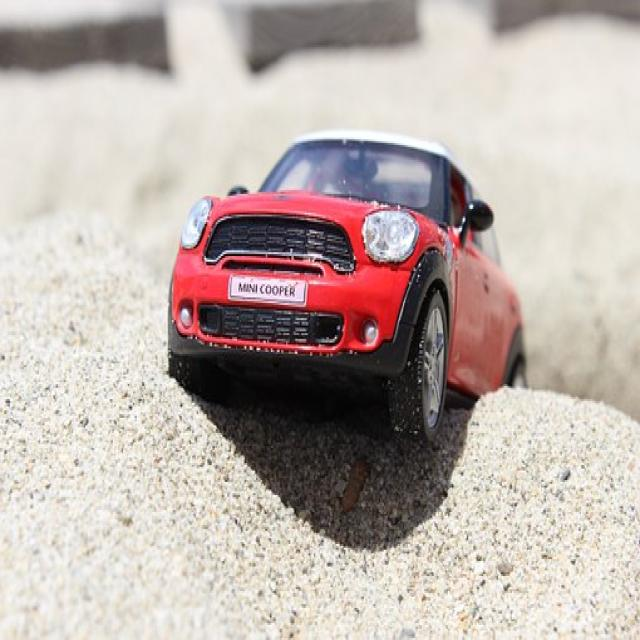Car: (167, 128, 528, 446)
